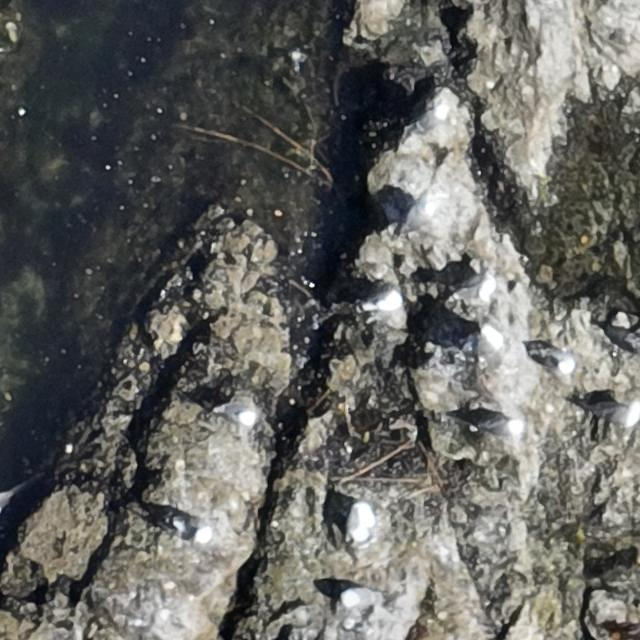umineko: (159, 504, 211, 545), (395, 189, 435, 239), (357, 286, 405, 319), (212, 397, 262, 428), (460, 325, 500, 363), (406, 99, 449, 132), (345, 500, 375, 542), (590, 400, 640, 425), (448, 278, 500, 302), (533, 349, 569, 369), (342, 588, 375, 606), (482, 419, 514, 435)
